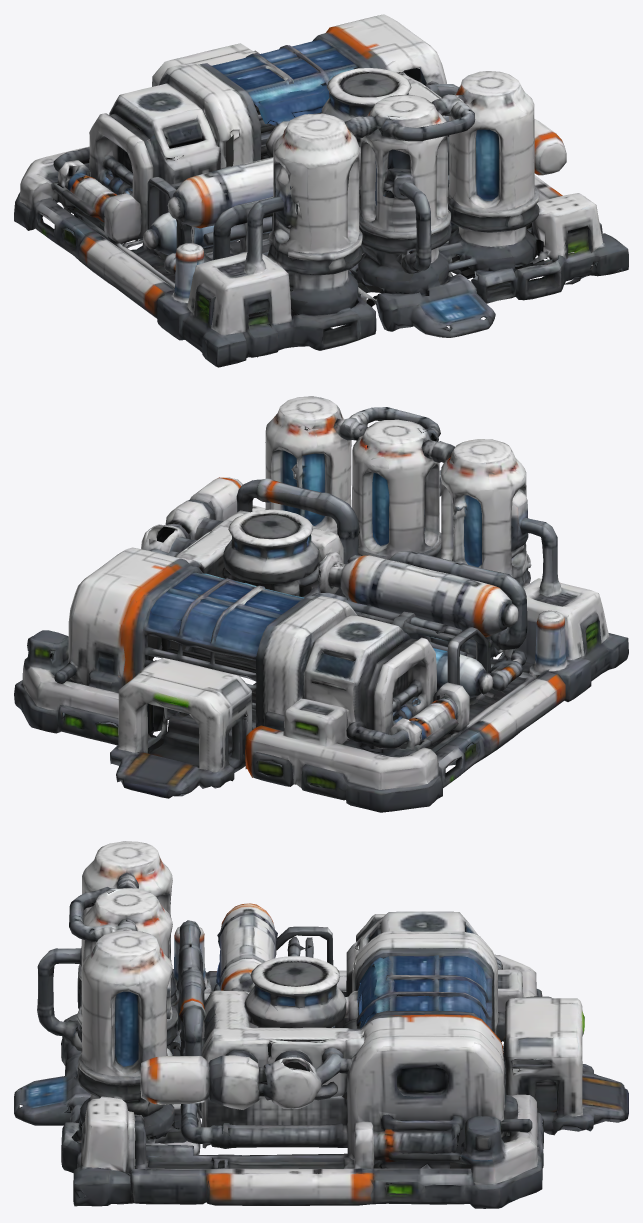
File: oxygen-generator.glb
The picture shows the model from 3 angles, top to bottom: view 1: azimuth 30°, elevation 25°; view 2: azimuth 150°, elevation 25°; view 3: azimuth 270°, elevation 25°; orthographic projection. The views are drawn at different scales.
Visible parts, largest first — view 1: world; view 2: world; view 3: world.
Boxes of the visible parts, bbox=[...] form: world: bbox=[14, 14, 628, 367]; world: bbox=[14, 396, 628, 812]; world: bbox=[14, 841, 628, 1208].
Size of the model in its own units: 0.8265 by 0.3821 by 1.
1 material, 1 textured.
